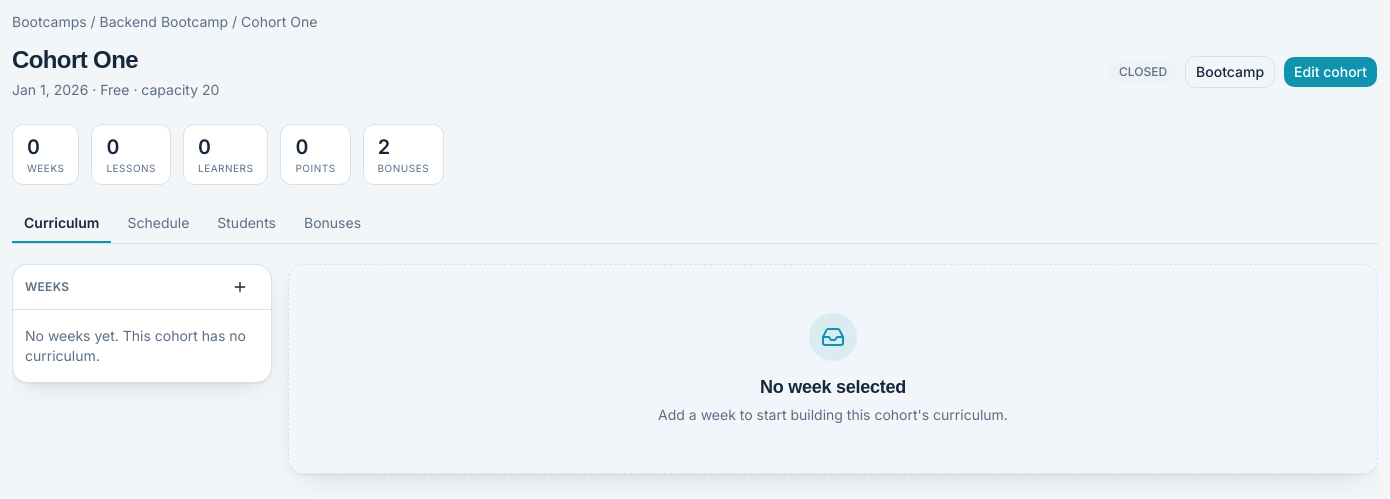
Test: the Bonuses tab list › shows a custom bonus by its title, not "Nothing chosen"
The width and height of the screenshot is (1390, 499).
Click the tab "Bonuses" at (332, 224), box [292,205,373,243]
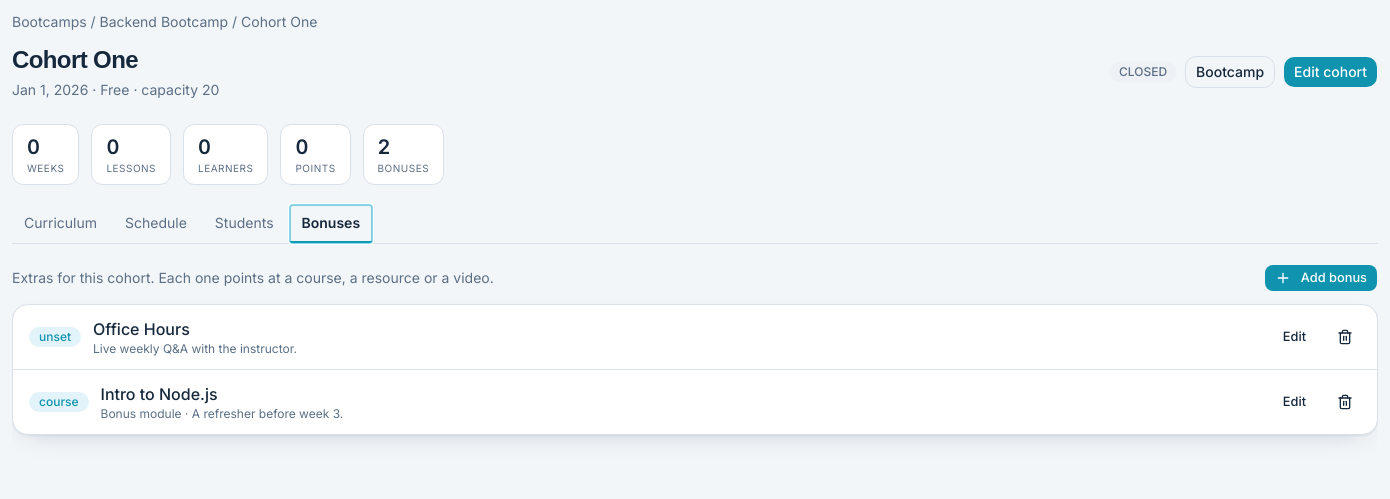
expect the text "Office Hours" is shown: met, box [93,319,190,339]
expect the text "Live weekly Q&A with the instructor." is shown: met, box [93,341,297,356]
